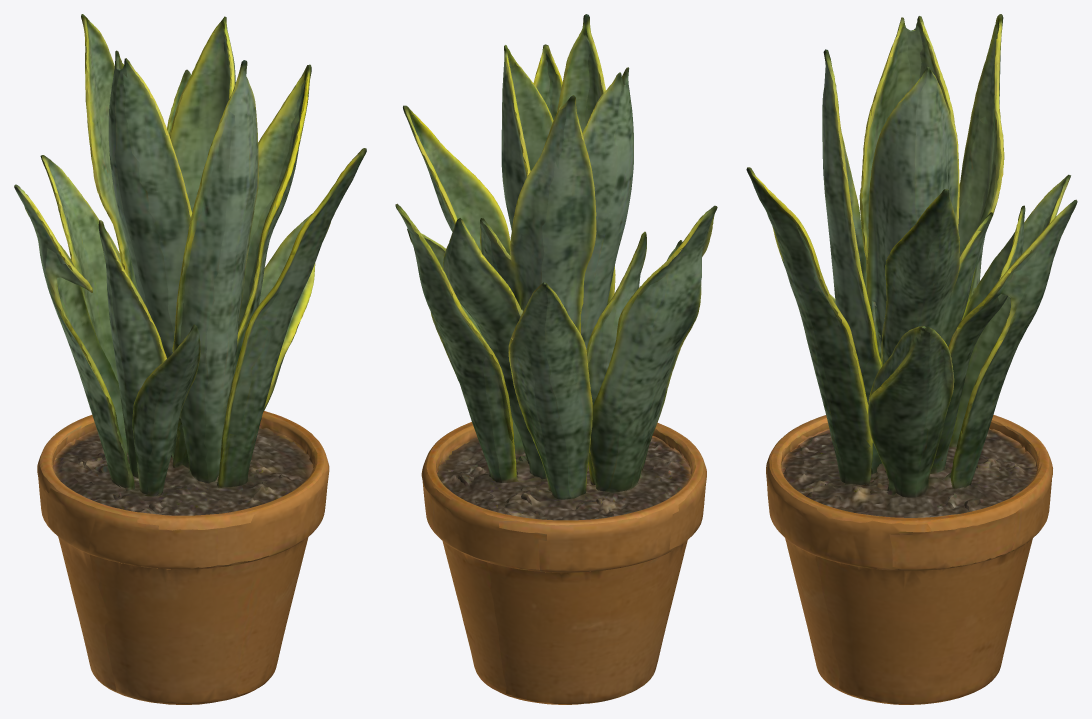
Rendered from L_PLANT_SMALL.glb.
3 views of the same model, side by side, from view 1: azimuth 30°, elevation 25°; view 2: azimuth 150°, elevation 25°; view 3: azimuth 270°, elevation 25° (orthographic). The views are drawn at different scales.
Parts seen in each view (by area): view 1: world; view 2: world; view 3: world.
Part boxes in pixels (x1,y1,x2,y2): world: [14, 14, 366, 704]; world: [395, 14, 717, 704]; world: [746, 14, 1077, 704].
Size of the model in its own units: 0.3133 by 0.6 by 0.2866.
1 material, 1 textured.
